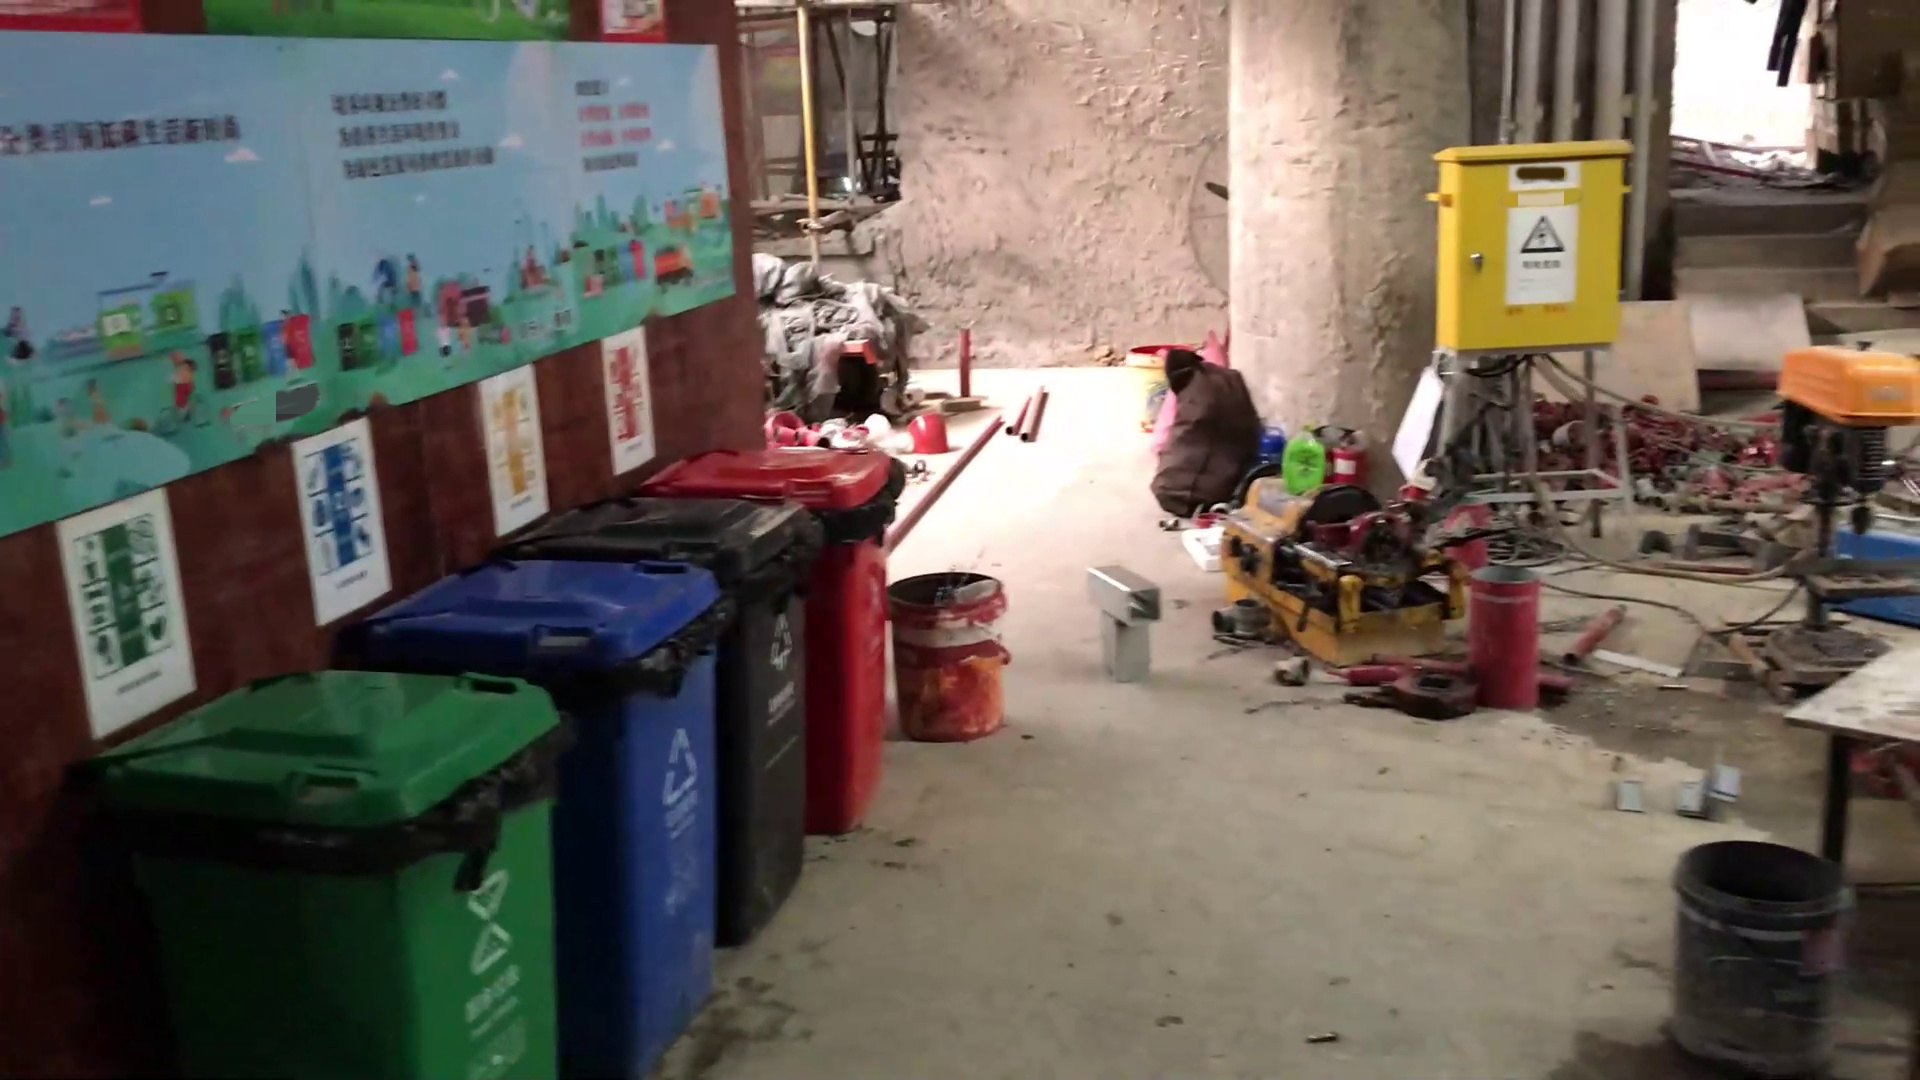ebox: (1419, 102, 1652, 378)
